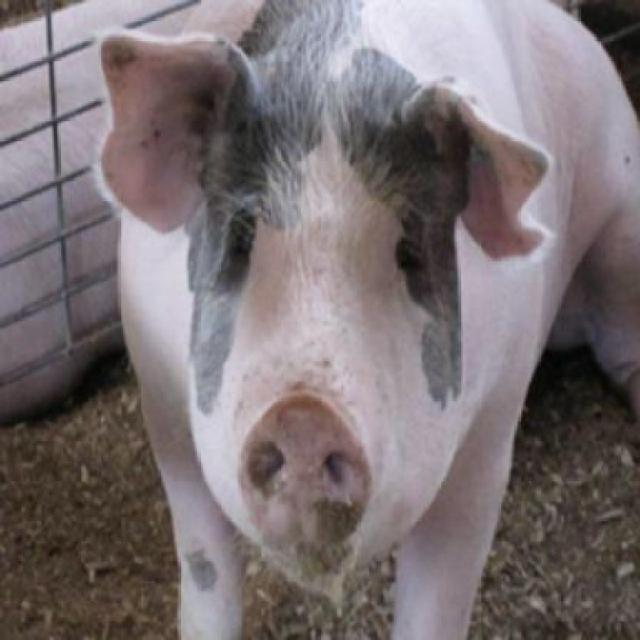Boar: (87, 0, 640, 637)
